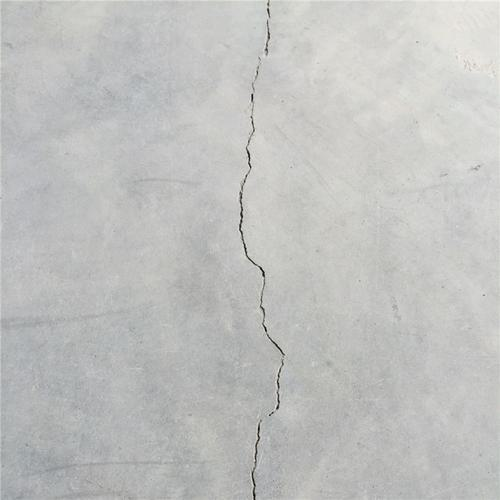Crack: (237, 1, 287, 500)
